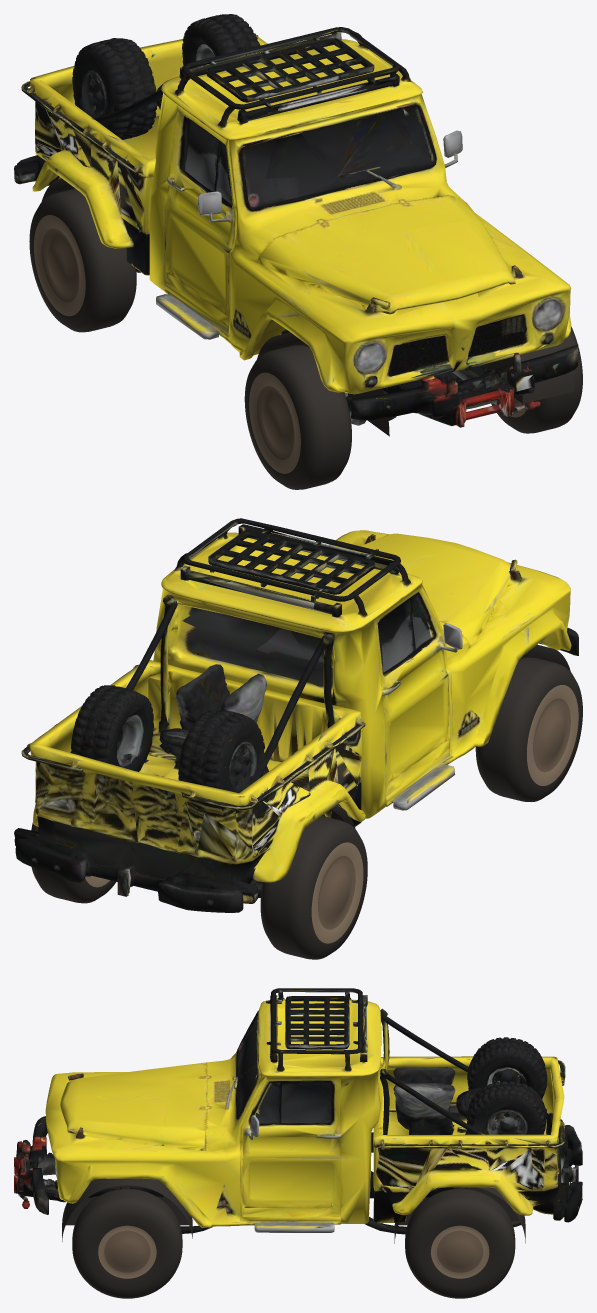
Rendered from VEH_M_YellowTrailRig_Drive.glb.
3 views of the same model, one above another, from view 1: azimuth 30°, elevation 25°; view 2: azimuth 150°, elevation 25°; view 3: azimuth 270°, elevation 25° (orthographic). The views are drawn at different scales.
Parts seen in each view (by area): view 1: VEH_M_YellowTrailRig, Wheel_FR, Wheel_RR, Wheel_FL, Liner_Wheel_FL, Liner_Wheel_FR; view 2: VEH_M_YellowTrailRig, Wheel_FR, Wheel_RR, Wheel_RL; view 3: VEH_M_YellowTrailRig, Wheel_FL, Wheel_RL, Liner_Wheel_FL, Liner_Wheel_RL.
Part boxes in pixels (x1=…): VEH_M_YellowTrailRig: x1=14, y1=14, x2=578, y2=427; Wheel_FR: x1=244, y1=345, x2=351, y2=489; Wheel_RR: x1=29, y1=188, x2=136, y2=332; Wheel_FL: x1=491, y1=326, x2=582, y2=433; Liner_Wheel_FL: x1=485, y1=338, x2=574, y2=403; Liner_Wheel_FR: x1=257, y1=332, x2=389, y2=436; VEH_M_YellowTrailRig: x1=14, y1=518, x2=578, y2=912; Wheel_FR: x1=475, y1=657, x2=582, y2=801; Wheel_RR: x1=260, y1=816, x2=367, y2=959; Wheel_RL: x1=31, y1=822, x2=115, y2=903; VEH_M_YellowTrailRig: x1=14, y1=988, x2=582, y2=1234; Wheel_FL: x1=72, y1=1188, x2=182, y2=1298; Wheel_RL: x1=405, y1=1188, x2=515, y2=1298; Liner_Wheel_FL: x1=62, y1=1178, x2=192, y2=1241; Liner_Wheel_RL: x1=394, y1=1187, x2=525, y2=1243.
Size of the model in its own units: 2.09 by 2.1 by 4.7.
Materials: 4 (1 with a texture image).
